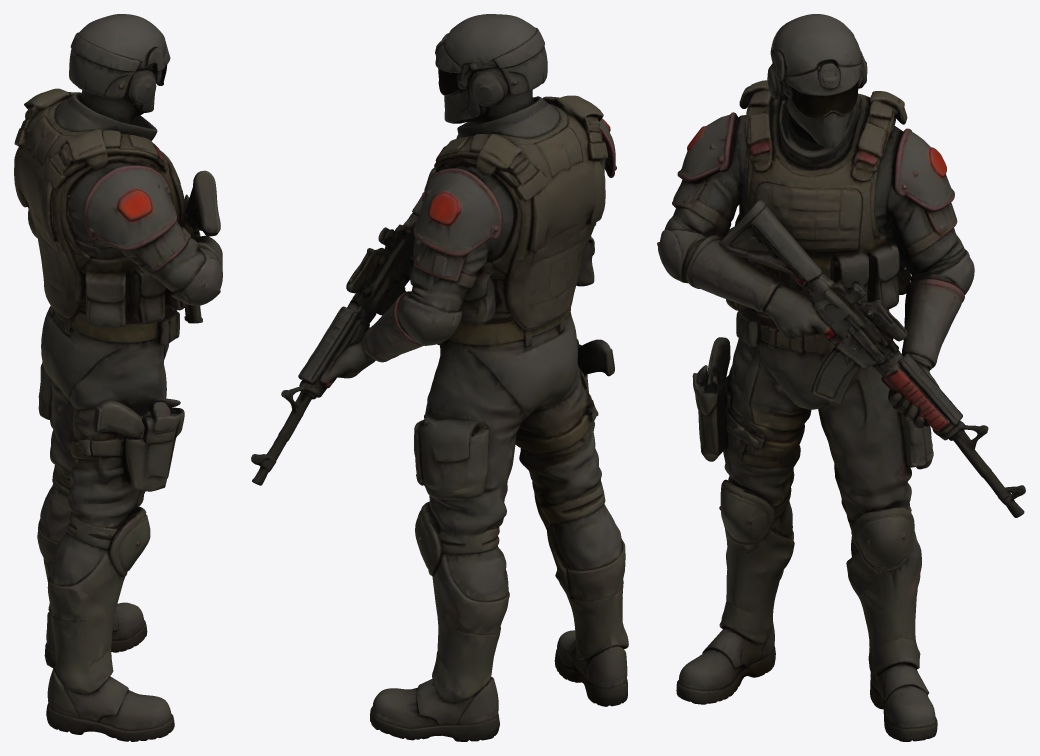
Rendered from aiprintgen_Realistic Armored Soldier Character Model - Rigged-preview.glb.
3 renders of one model, left to right at view 1: azimuth 30°, elevation 25°; view 2: azimuth 150°, elevation 25°; view 3: azimuth 270°, elevation 25°, orthographic. The views are drawn at different scales.
Parts seen in each view (by area): view 1: aiprintgen_node_2965db67-b6db-4bfb-bc79-b9496378a658; view 2: aiprintgen_node_2965db67-b6db-4bfb-bc79-b9496378a658; view 3: aiprintgen_node_2965db67-b6db-4bfb-bc79-b9496378a658.
Boxes of the visible parts, bbox=[...] form: aiprintgen_node_2965db67-b6db-4bfb-bc79-b9496378a658: bbox=[14, 14, 222, 741]; aiprintgen_node_2965db67-b6db-4bfb-bc79-b9496378a658: bbox=[251, 14, 628, 741]; aiprintgen_node_2965db67-b6db-4bfb-bc79-b9496378a658: bbox=[657, 14, 1025, 741].
Bounding box in the file's own units: 0.3687 × 1 × 0.4844.
1 material, 1 textured.
